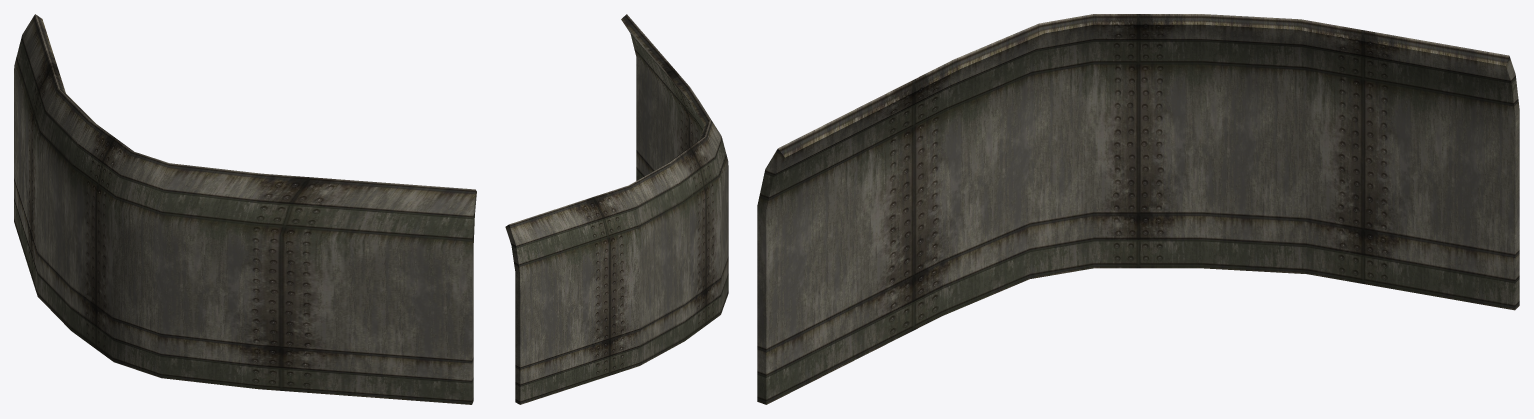
File: ShipWreckage3.fbx
The picture shows the model from 3 angles, left to right: view 1: azimuth 30°, elevation 25°; view 2: azimuth 150°, elevation 25°; view 3: azimuth 270°, elevation 25°; orthographic projection. The views are drawn at different scales.
Parts seen in each view (by area): view 1: pCube1; view 2: pCube1; view 3: pCube1.
Part boxes in pixels (left/top/right/bottom): pCube1: left=14, top=14, right=476, bottom=404; pCube1: left=505, top=14, right=728, bottom=404; pCube1: left=757, top=14, right=1519, bottom=404.
Size of the model in its own units: 6.46 by 5.29 by 14.03.
Materials: 1 (1 with a texture image).
